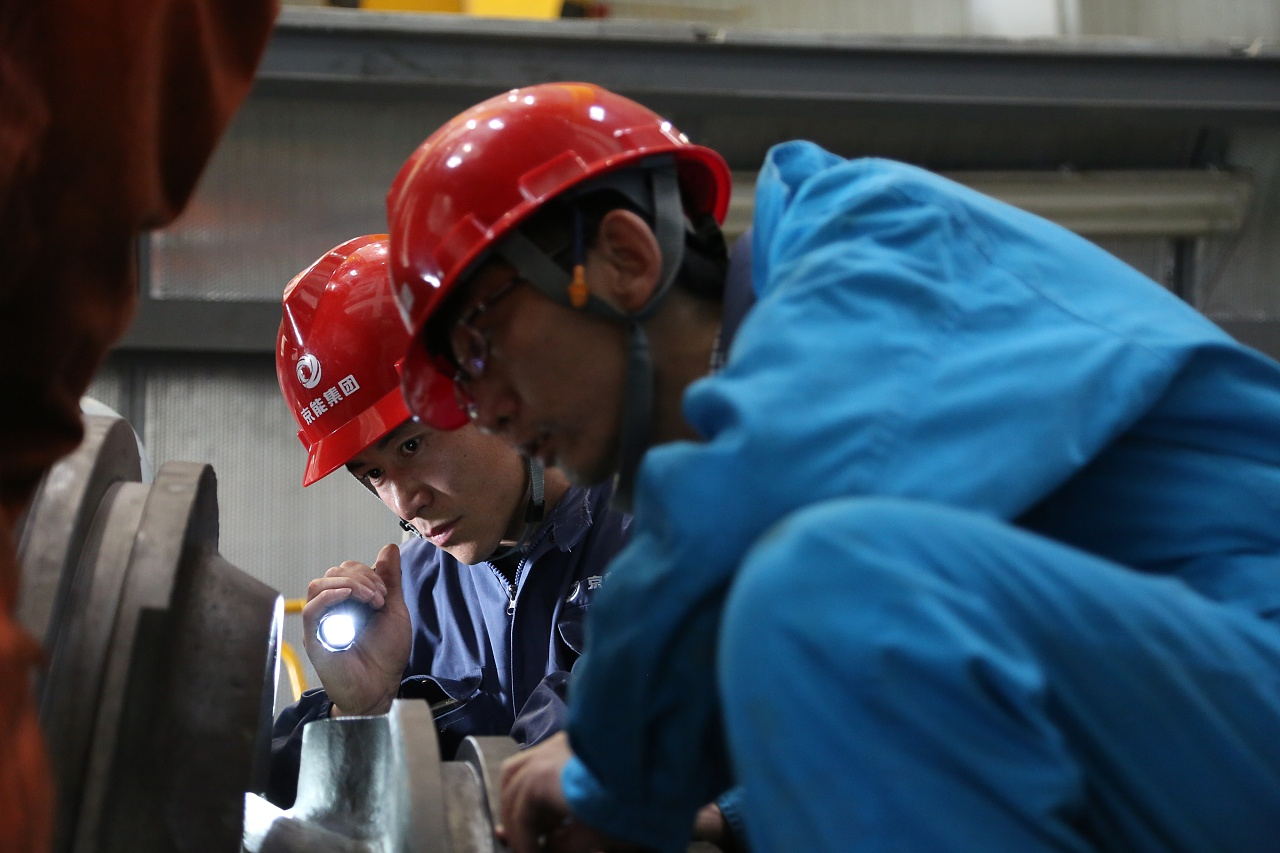safetyhat: (242, 23, 1147, 768)
